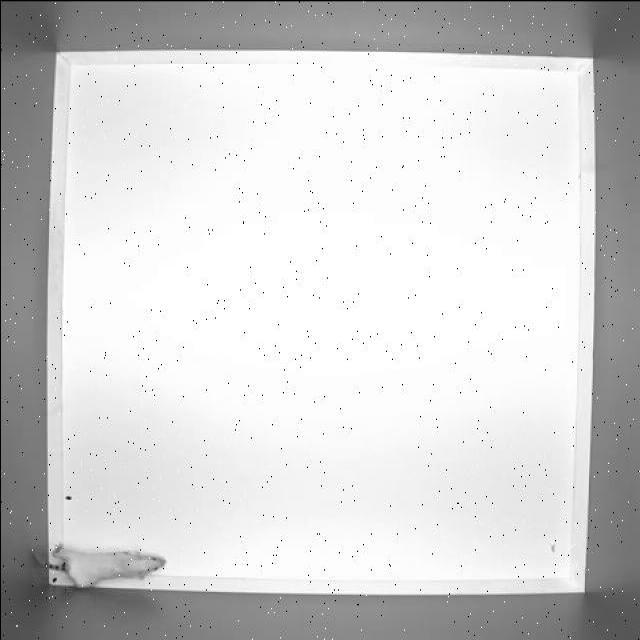rat: (28, 543, 165, 589)
